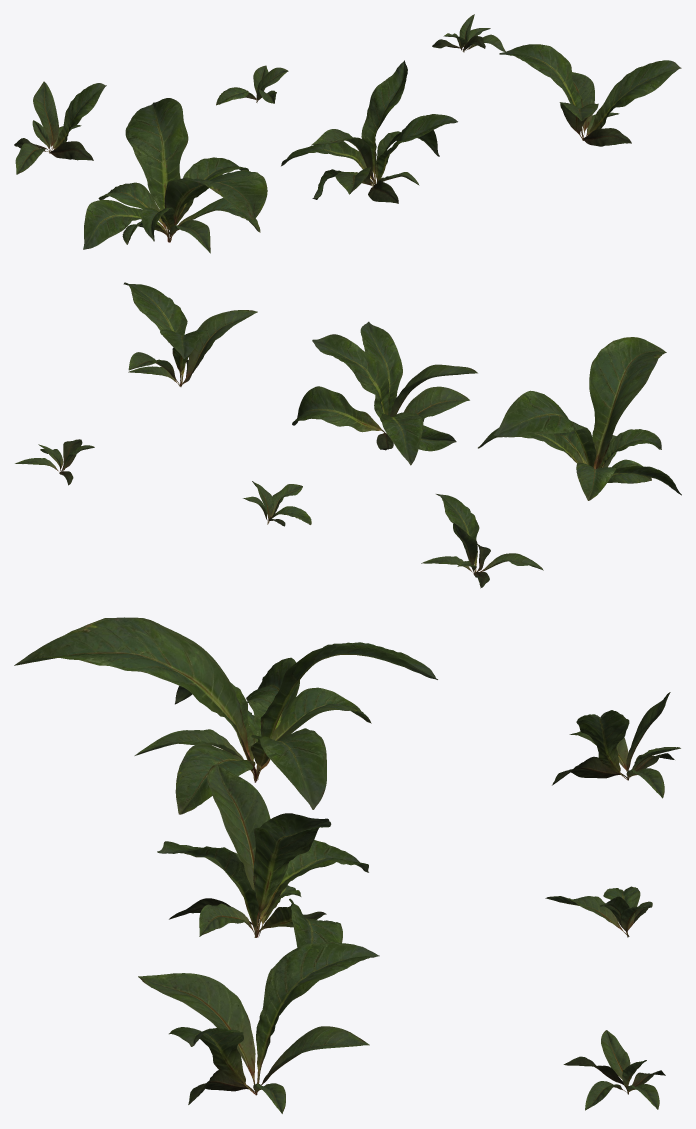
Rendered from anthurium_botany_01.glb.
The picture shows the model from 3 angles, top to bottom: view 1: azimuth 30°, elevation 25°; view 2: azimuth 150°, elevation 25°; view 3: azimuth 270°, elevation 25°; orthographic projection. The views are drawn at different scales.
Parts seen in each view (by area): view 1: anthurium_botany_01_a, anthurium_botany_01_b, anthurium_botany_01_c, anthurium_botany_04_d, anthurium_botany_05_e, anthurium_botany_06_f; view 2: anthurium_botany_01_a, anthurium_botany_01_b, anthurium_botany_01_c, anthurium_botany_04_d, anthurium_botany_05_e, anthurium_botany_06_f; view 3: anthurium_botany_01_a, anthurium_botany_01_b, anthurium_botany_01_c, anthurium_botany_04_d, anthurium_botany_06_f, anthurium_botany_05_e.
Part boxes in pixels (bbox=[...]): anthurium_botany_01_a: bbox=[83, 98, 267, 253]; anthurium_botany_01_b: bbox=[281, 60, 457, 203]; anthurium_botany_01_c: bbox=[499, 44, 681, 146]; anthurium_botany_04_d: bbox=[14, 81, 106, 174]; anthurium_botany_05_e: bbox=[216, 65, 288, 105]; anthurium_botany_06_f: bbox=[432, 14, 505, 52]; anthurium_botany_01_a: bbox=[478, 337, 681, 500]; anthurium_botany_01_b: bbox=[292, 321, 477, 465]; anthurium_botany_01_c: bbox=[123, 282, 257, 386]; anthurium_botany_04_d: bbox=[421, 494, 543, 588]; anthurium_botany_05_e: bbox=[243, 481, 311, 526]; anthurium_botany_06_f: bbox=[15, 439, 94, 485]; anthurium_botany_01_a: bbox=[14, 617, 437, 814]; anthurium_botany_01_b: bbox=[157, 763, 368, 981]; anthurium_botany_01_c: bbox=[138, 942, 379, 1113]; anthurium_botany_04_d: bbox=[552, 692, 680, 798]; anthurium_botany_06_f: bbox=[563, 1030, 665, 1110]; anthurium_botany_05_e: bbox=[545, 886, 652, 937].
Bounding box in the file's own units: 2.8 × 0.4997 × 1.8.
1 material, 1 textured.
